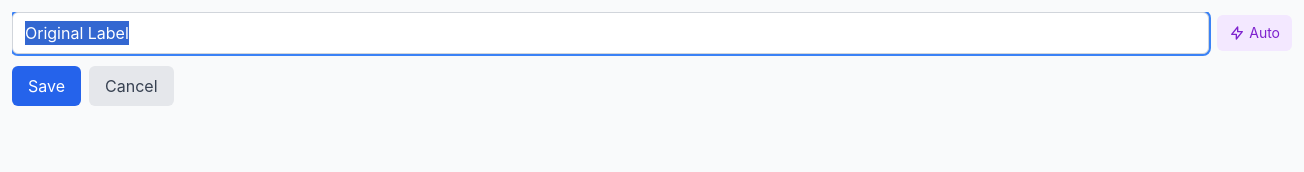
Test: ThemeLabelEditor › Auto Label Generation › should show loading state during auto generation
The image size is (1304, 172).
Click the button "Auto": (1255, 33) x1=1217 y1=15 x2=1292 y2=51
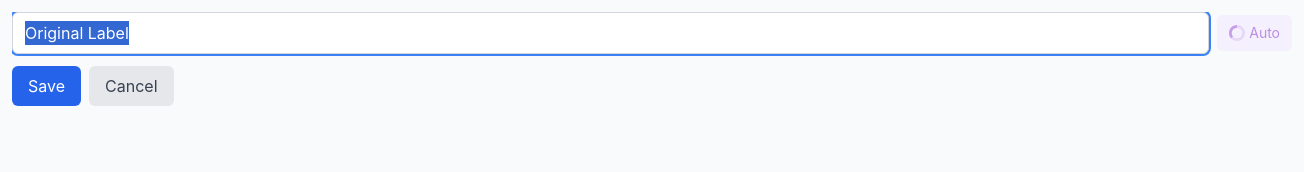
Now the button titled "Generate automatic label" is disabled, box x1=1217 y1=15 x2=1292 y2=51
